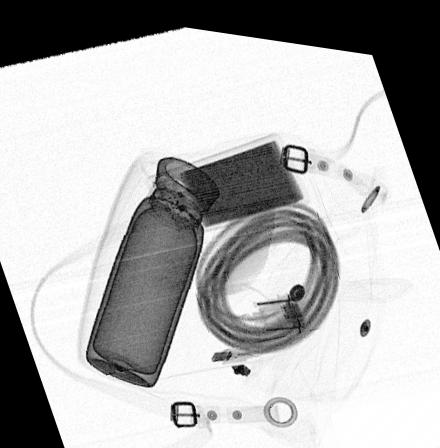Powerbank: (144, 123, 308, 233)
